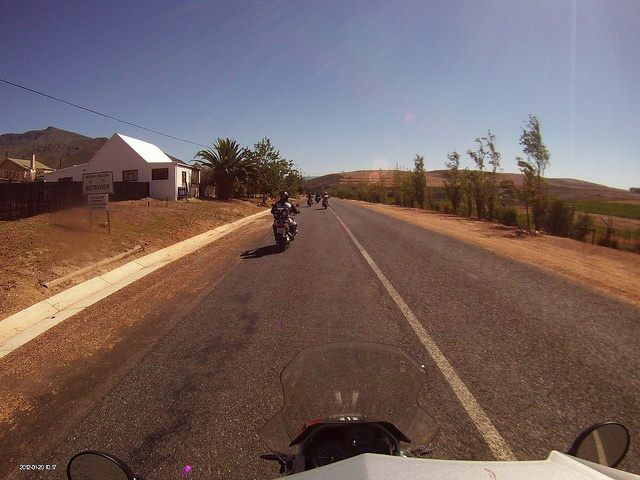non-vehicle: (271, 203, 298, 252), (322, 197, 330, 208), (306, 195, 314, 206), (316, 197, 321, 202)
